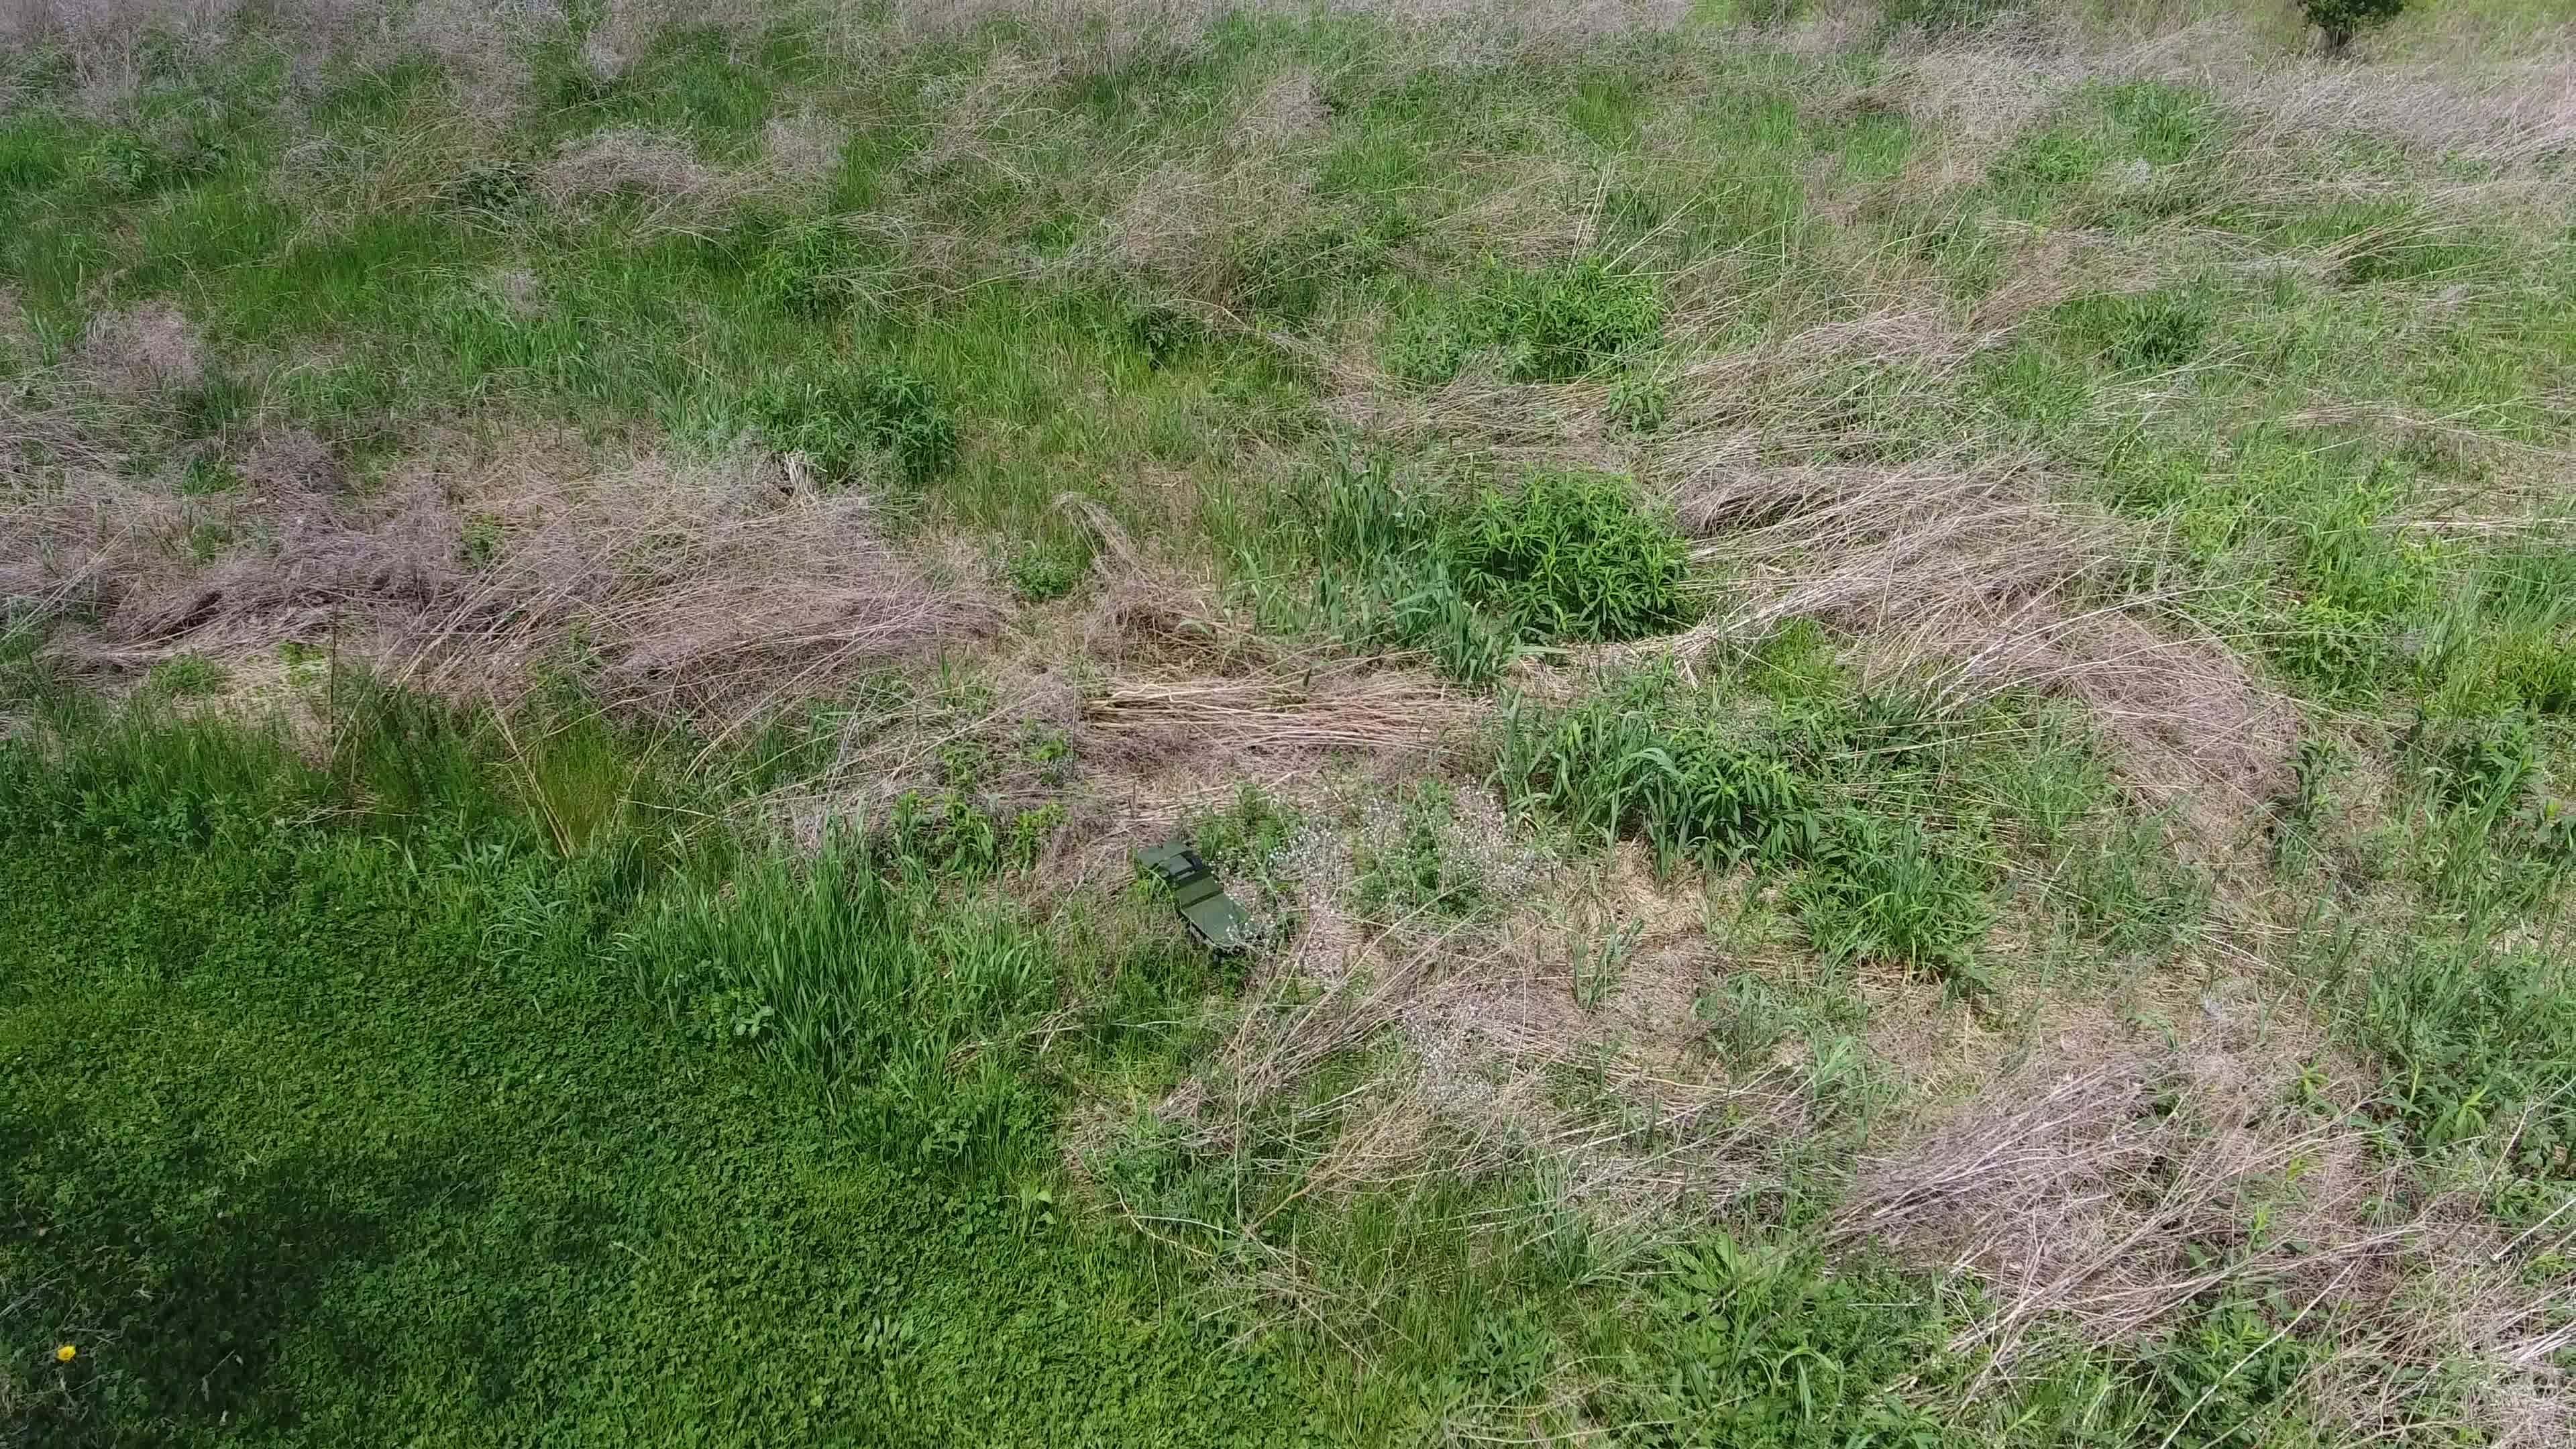transporter9: (1127, 837, 1261, 961)
